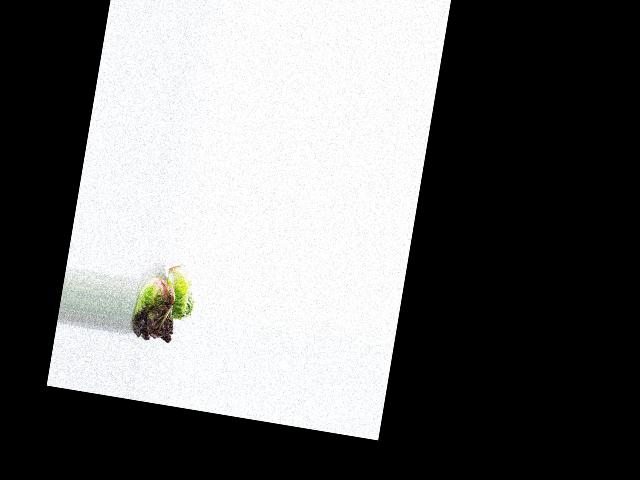lettuce: (158, 261, 200, 322)
